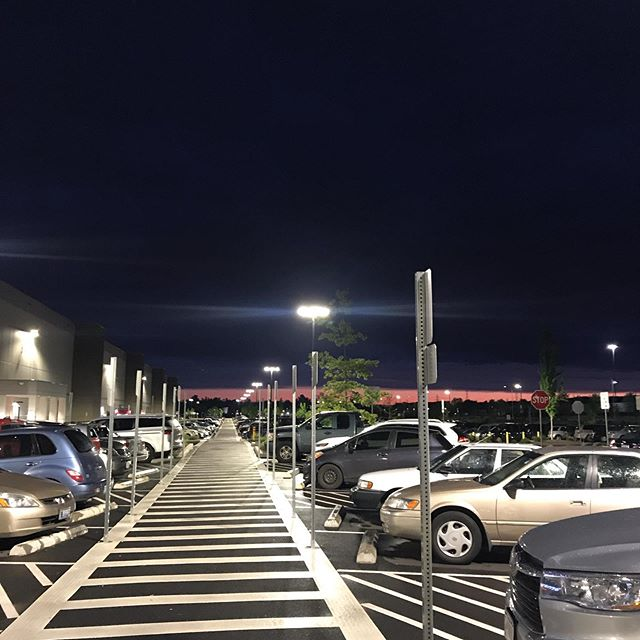building: (4, 283, 192, 413)
car: (407, 445, 640, 563), (341, 443, 531, 516), (309, 417, 452, 491), (11, 420, 105, 517)
crosswalk: (36, 389, 370, 640)
sky: (20, 1, 613, 370)
